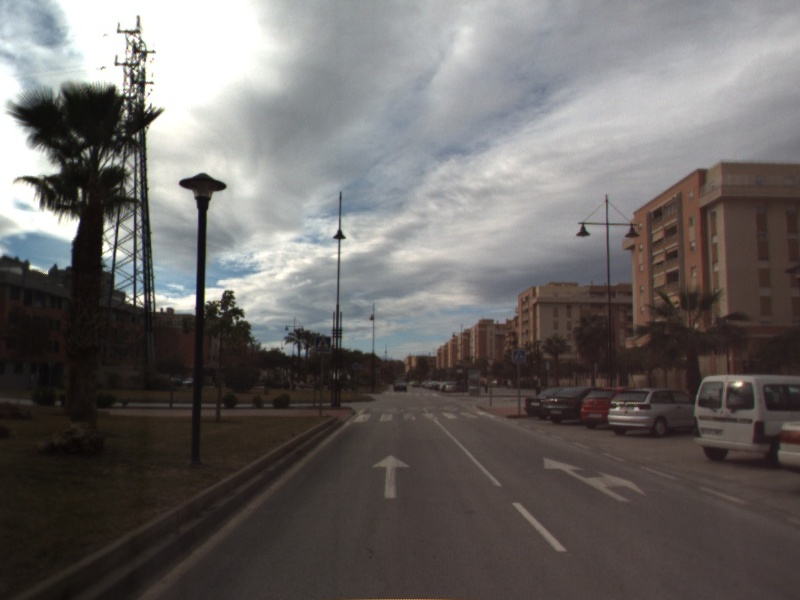STRAIGHT: (370, 452, 412, 500)
STRAIGHT_RIGHT: (542, 456, 647, 504)
